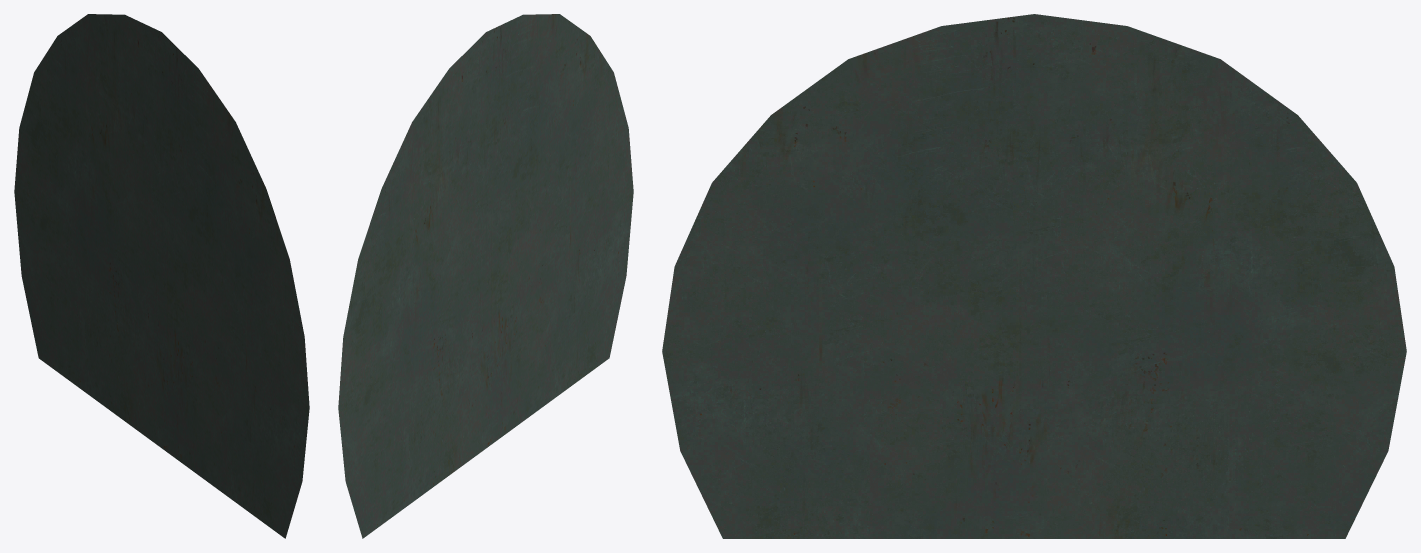
Rendered from tau_tunnel_wall.dae.
3 views of the same model, side by side, from view 1: azimuth 30°, elevation 25°; view 2: azimuth 150°, elevation 25°; view 3: azimuth 270°, elevation 25° (orthographic). The views are drawn at different scales.
Parts seen in each view (by area): view 1: polySurface457; view 2: polySurface457; view 3: polySurface457.
Boxes of the visible parts, box(x1,y1,x2,y2) form: polySurface457: box(14, 14, 309, 538); polySurface457: box(338, 14, 633, 538); polySurface457: box(662, 14, 1406, 538).
Bounding box in the file's own units: 0 × 3.54 × 4.55.
